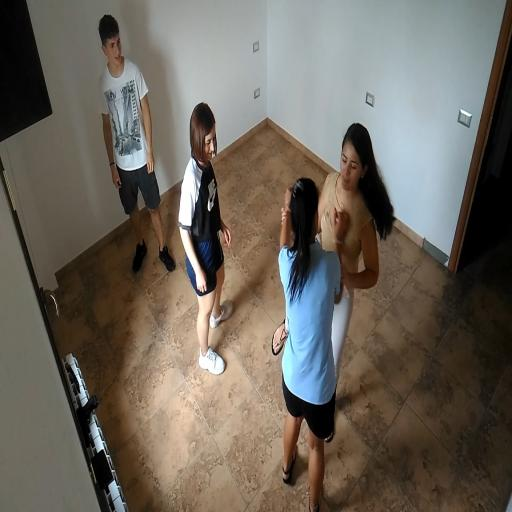violencia: (258, 105, 402, 512)
